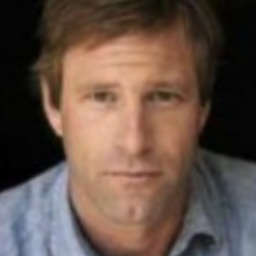Person: (11, 2, 241, 256)
